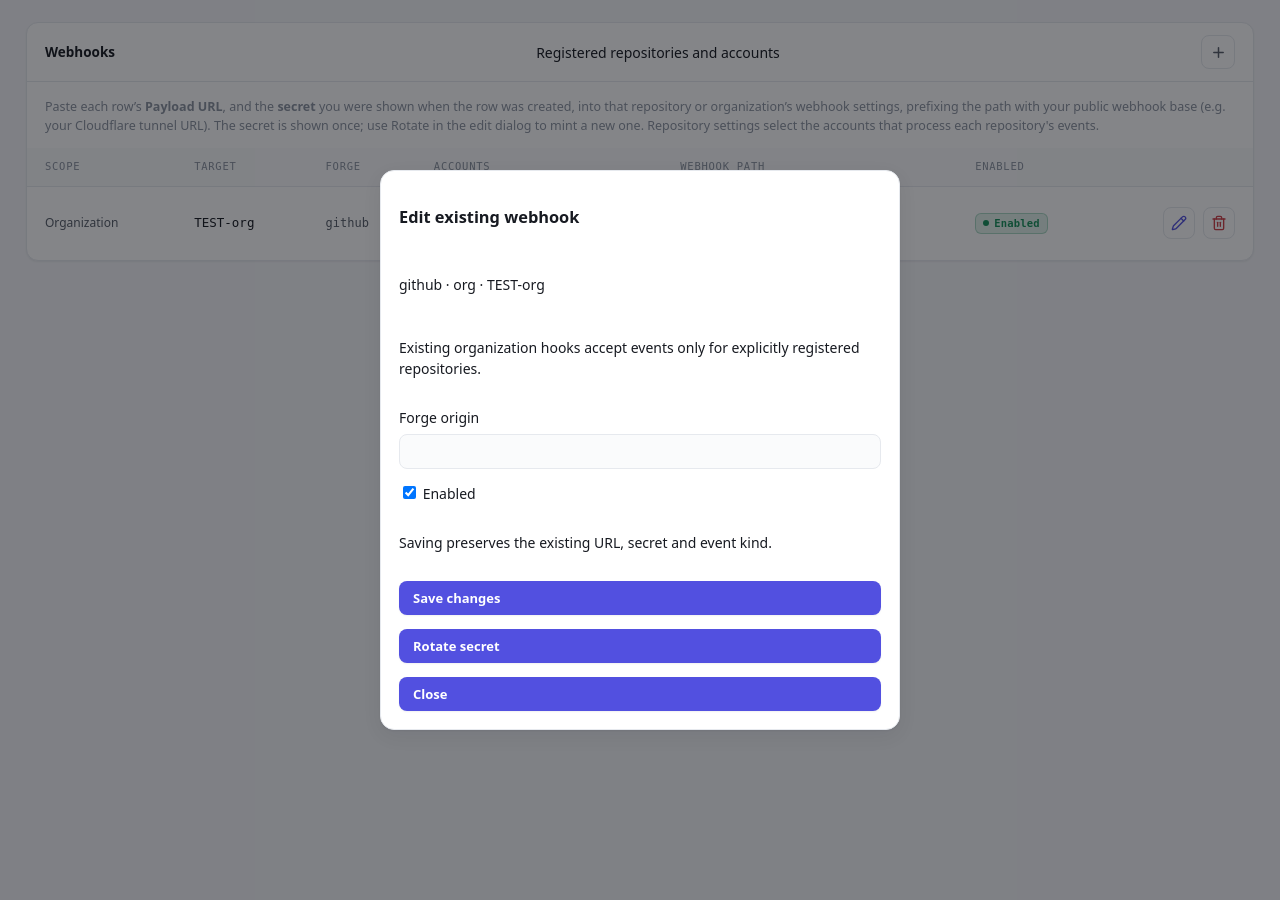
Legacy webhook repair › keeps a failed repair open for retry
Type "https://api.github.com" into the field labelled "Forge origin" at (640, 452), box left=399, top=434, right=881, bottom=469
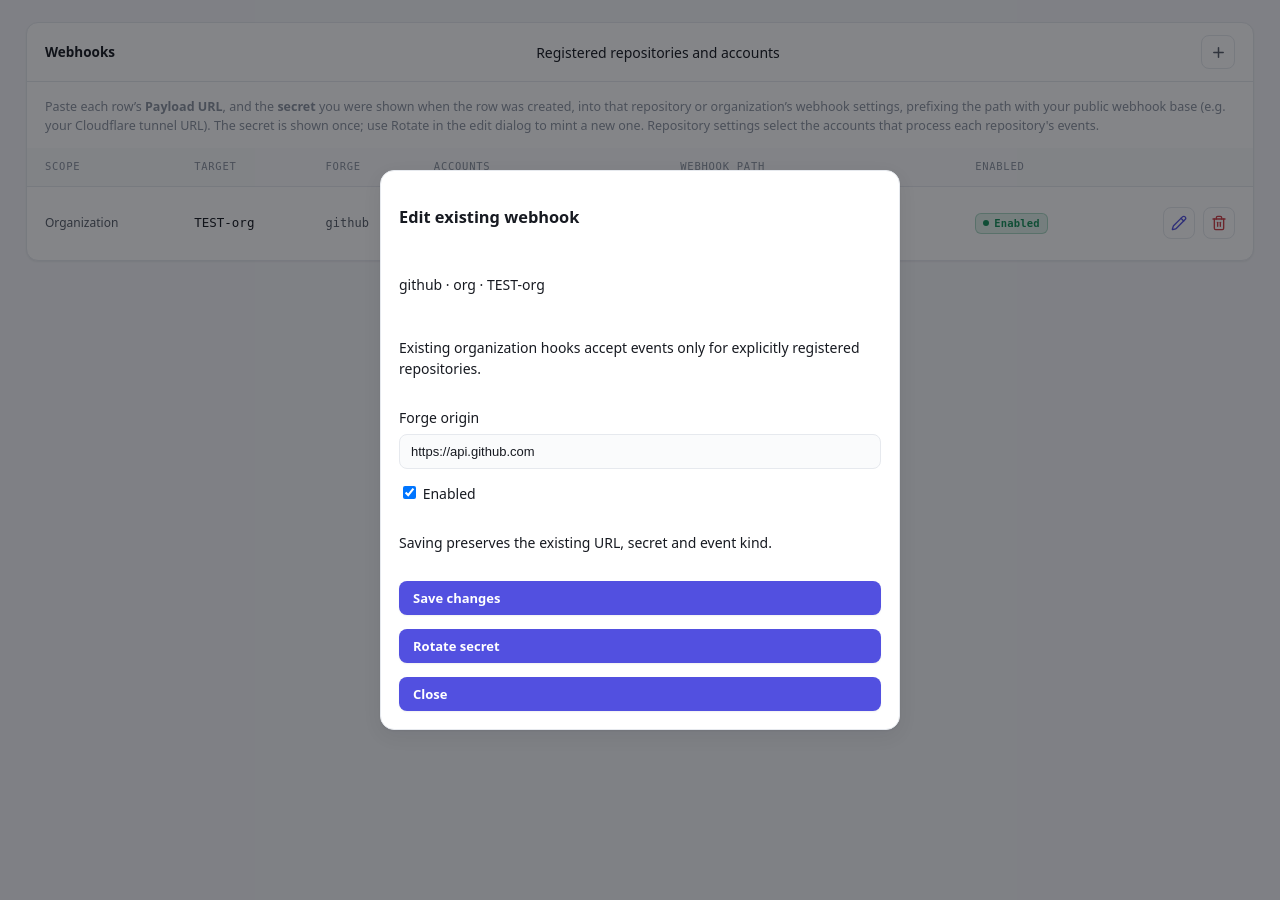
Click the button "Save changes" at (457, 598), box left=399, top=581, right=881, bottom=615
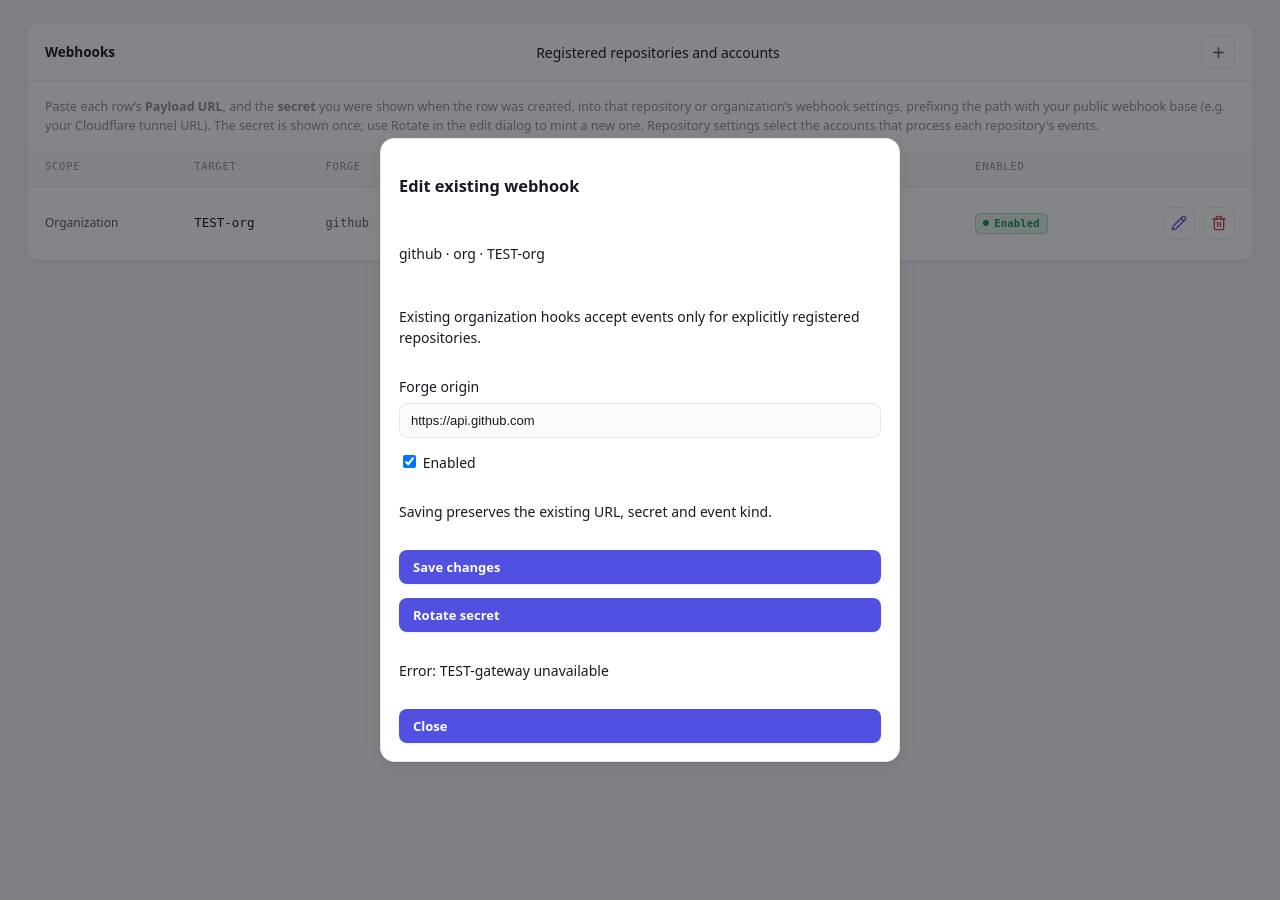
Now the message shows "TEST-gateway unavailable", box left=399, top=661, right=609, bottom=680
